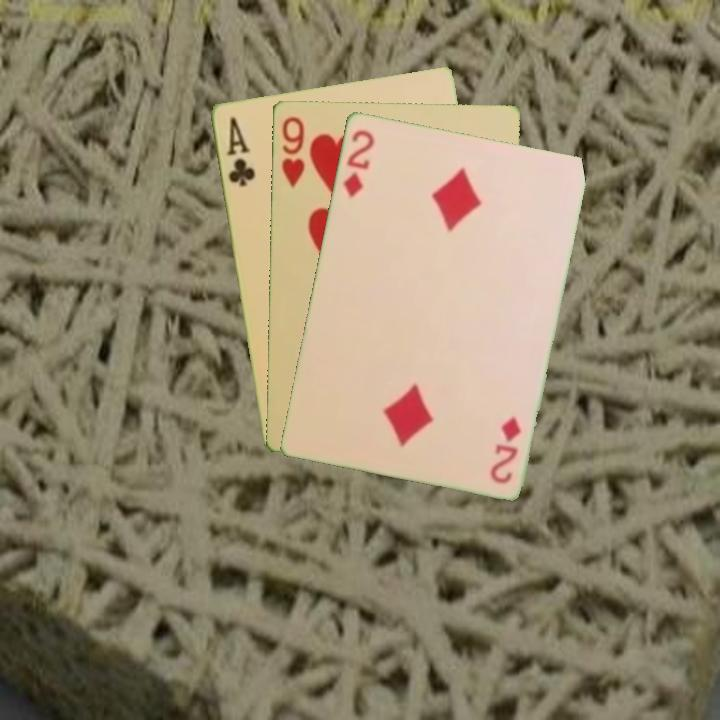2d: (339, 125, 377, 200), (487, 412, 524, 486)
9h: (278, 113, 307, 190)
Ac: (223, 113, 258, 189)
